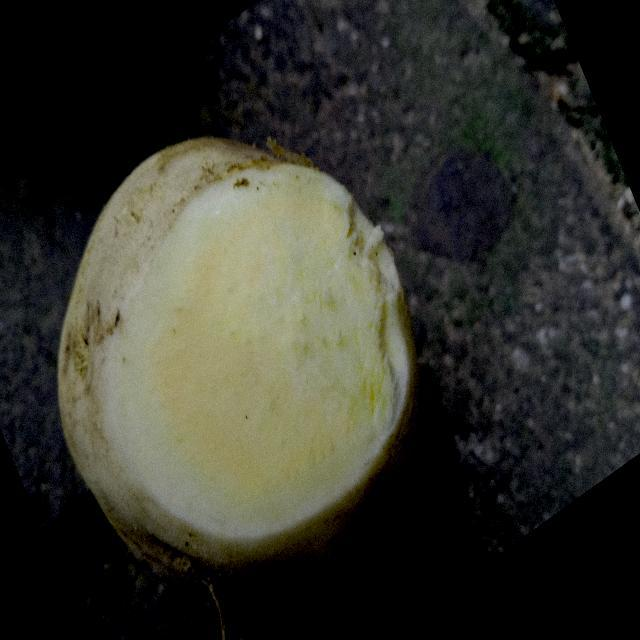Healthy Sweet Potato: (104, 163, 409, 540)
